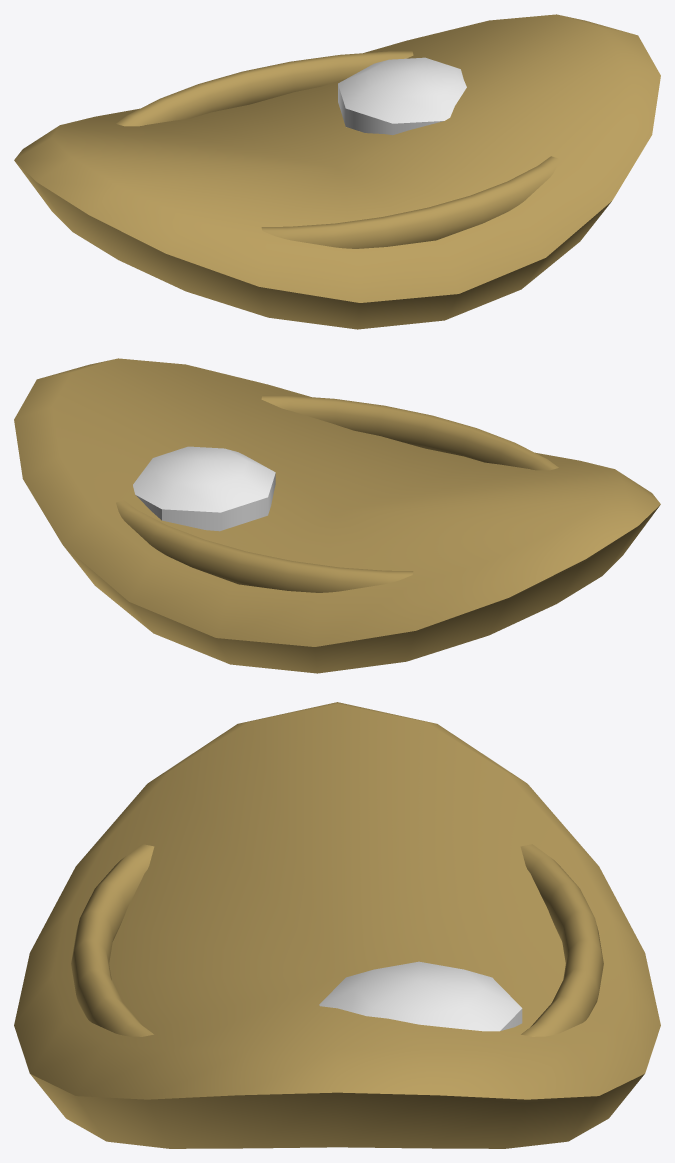
The model's file is goblin_toenail.glb.
The picture shows the model from 3 angles, top to bottom: view 1: azimuth 30°, elevation 25°; view 2: azimuth 150°, elevation 25°; view 3: azimuth 270°, elevation 25°; orthographic projection. The views are drawn at different scales.
Parts seen in each view (by area): view 1: goblin_toenail; view 2: goblin_toenail; view 3: goblin_toenail.
Part boxes in pixels (box(x1,y1,x2,y2)): goblin_toenail: box(14, 14, 660, 329); goblin_toenail: box(14, 358, 660, 673); goblin_toenail: box(14, 702, 660, 1148).
Size of the model in its own units: 0.068 by 0.0161 by 0.0476.
